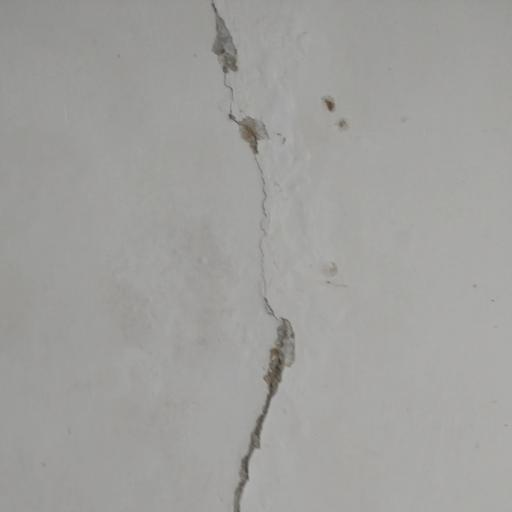major_crack: (201, 3, 309, 512)
